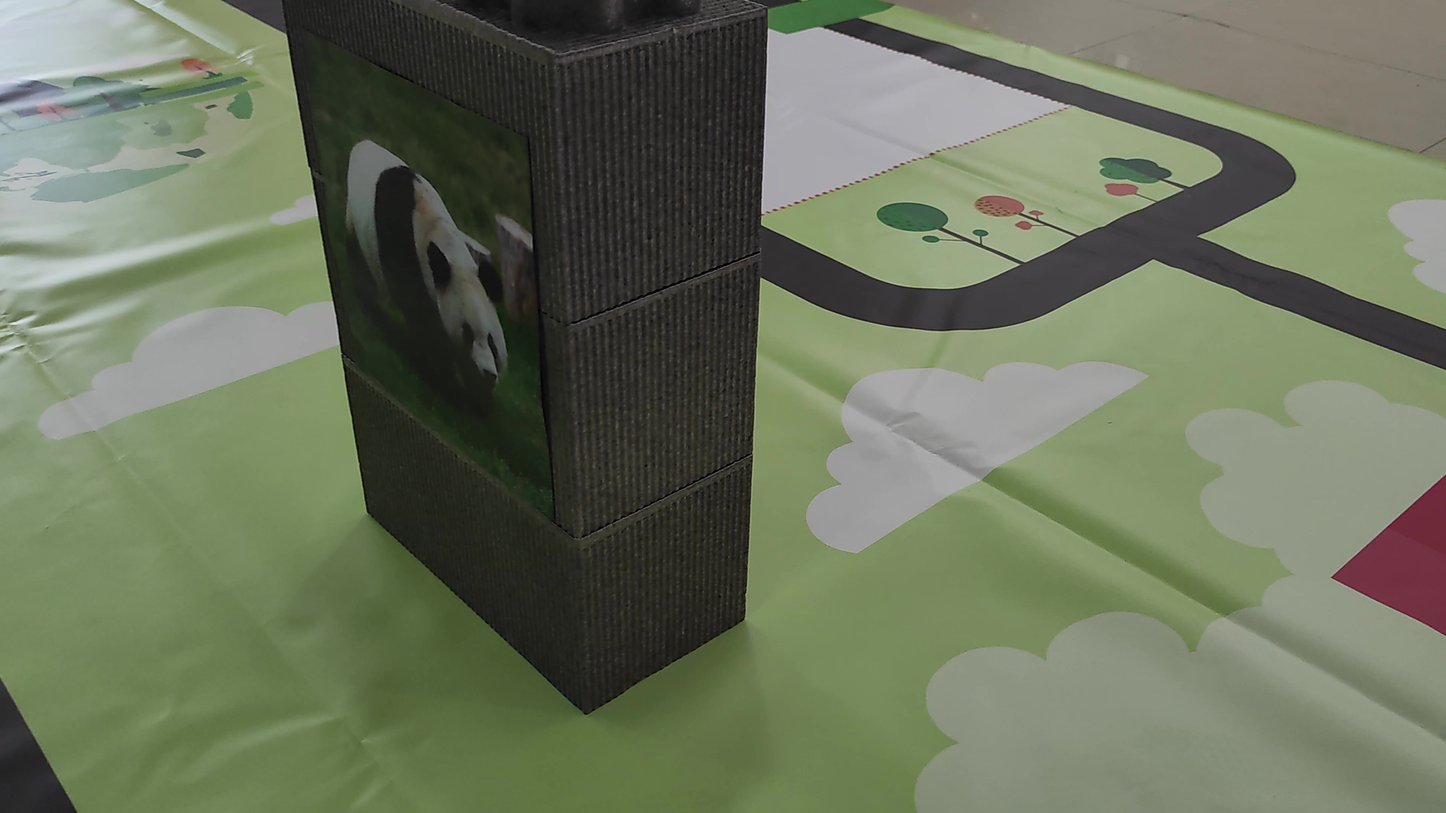panda: (325, 121, 520, 414)
